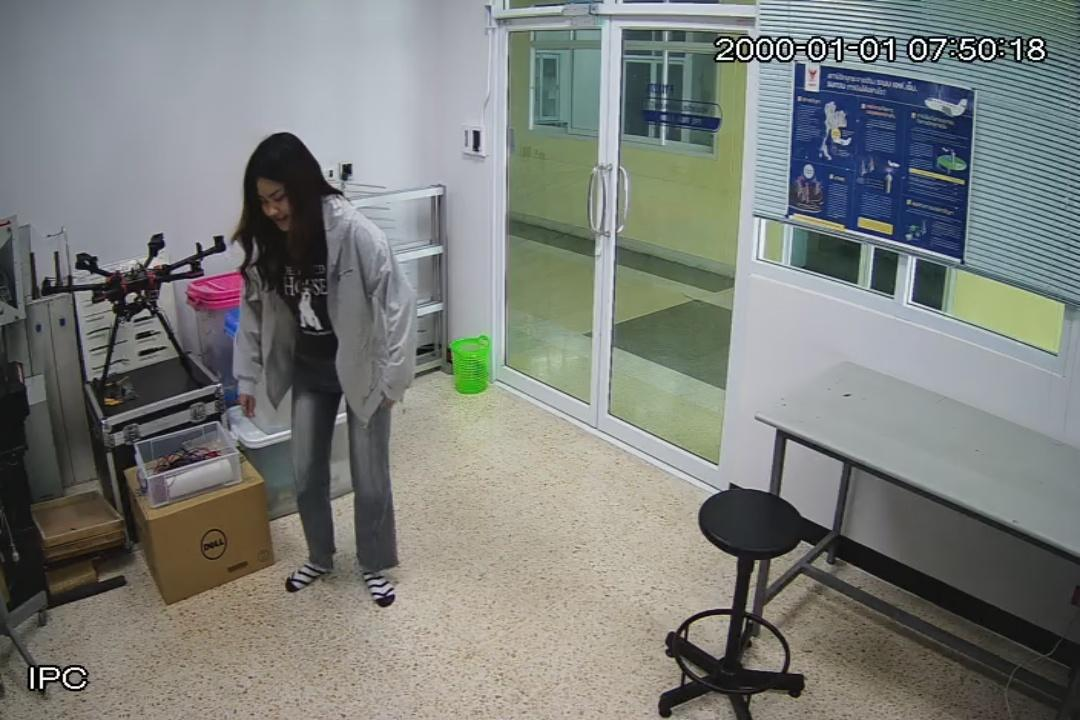normal: (230, 132, 414, 606)
